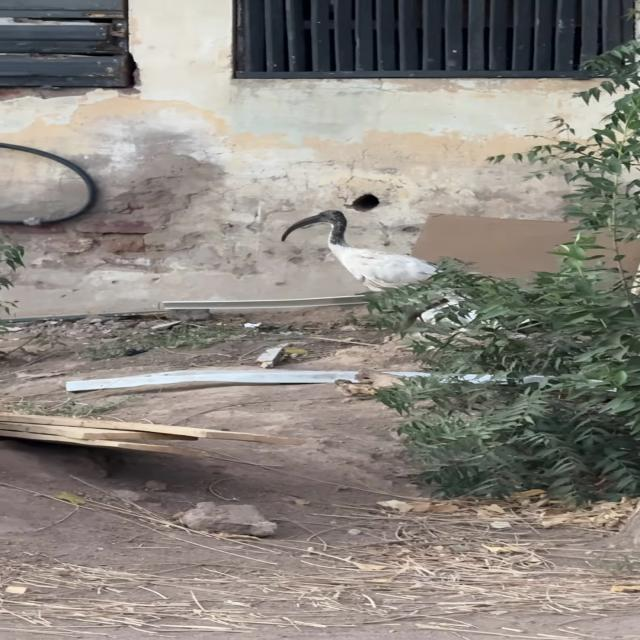Birds-Ibis: (278, 208, 488, 298)
